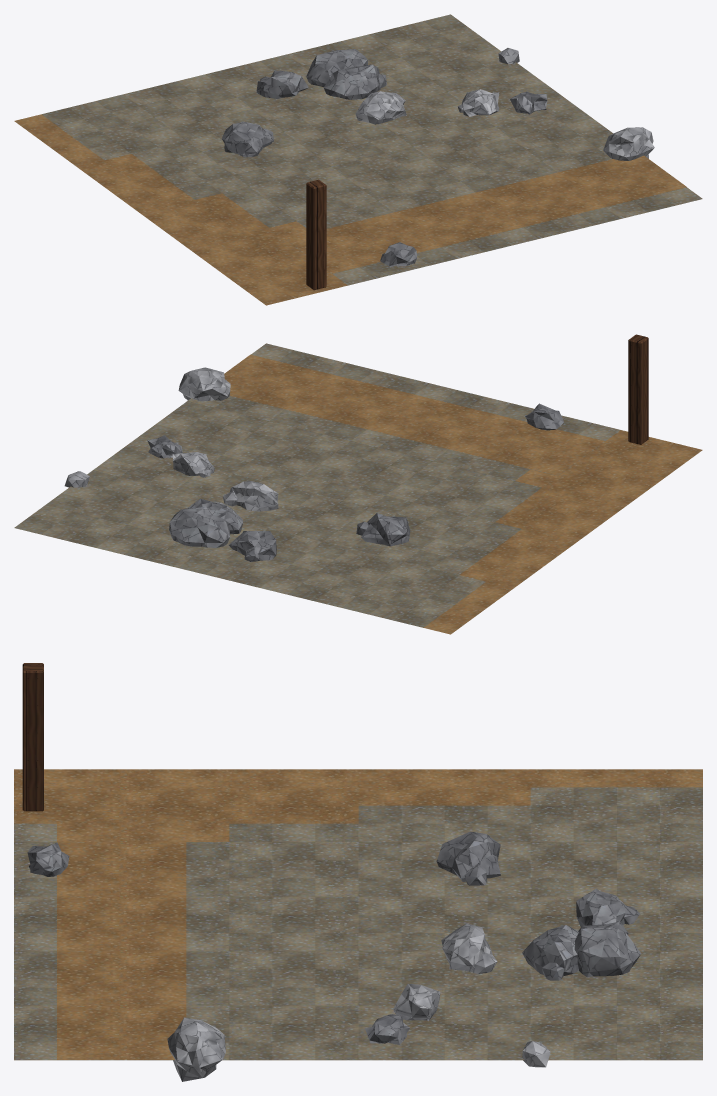
The model's file is chunk_6_17.glb.
The picture shows the model from 3 angles, top to bottom: view 1: azimuth 30°, elevation 25°; view 2: azimuth 150°, elevation 25°; view 3: azimuth 270°, elevation 25°; orthographic projection. The views are drawn at different scales.
Visible parts, largest first — view 1: chunk_6_17; view 2: chunk_6_17; view 3: chunk_6_17.
Boxes of the visible parts, bbox=[...] form: chunk_6_17: bbox=[14, 14, 702, 305]; chunk_6_17: bbox=[14, 334, 702, 634]; chunk_6_17: bbox=[14, 663, 702, 1081].
Bounding box in the file's own units: 16.68 × 4.11 × 16.
6 materials, 6 textured.
